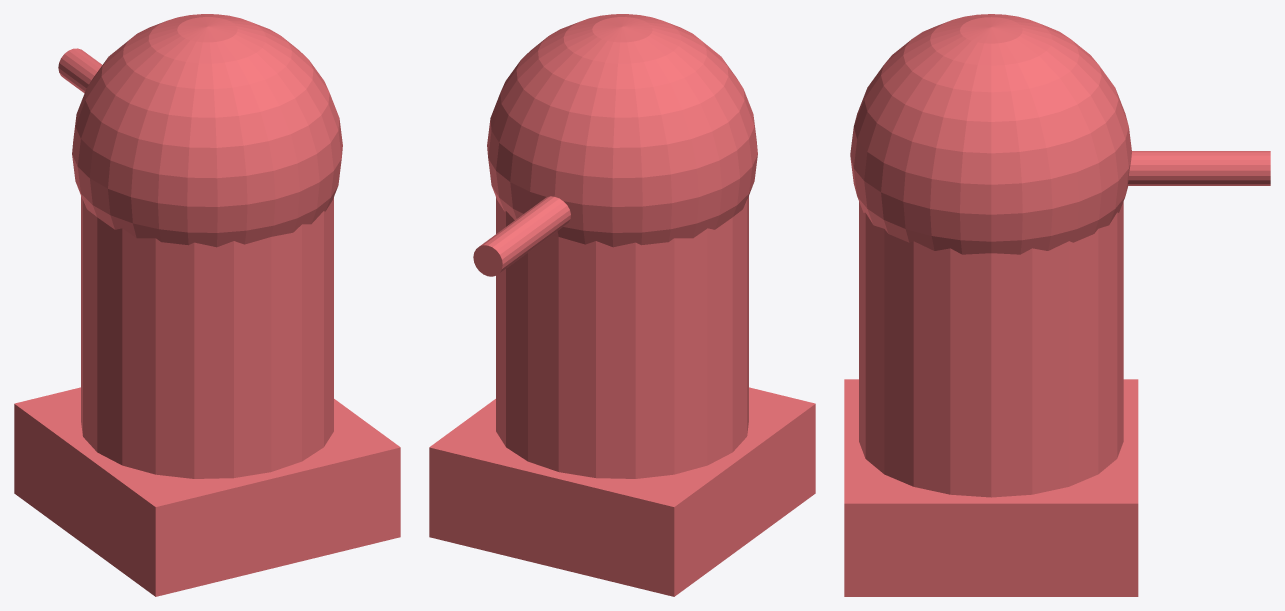
3 renders of one model, left to right at view 1: azimuth 30°, elevation 25°; view 2: azimuth 150°, elevation 25°; view 3: azimuth 270°, elevation 25°, orthographic. The views are drawn at different scales.
Parts seen in each view (by area): view 1: cis_sentry_turret_sketchfab_001; view 2: cis_sentry_turret_sketchfab_001; view 3: cis_sentry_turret_sketchfab_001.
Part boxes in pixels (x1,y1,x2,y2): cis_sentry_turret_sketchfab_001: [14, 14, 400, 596]; cis_sentry_turret_sketchfab_001: [429, 14, 815, 596]; cis_sentry_turret_sketchfab_001: [844, 14, 1270, 596].
Bounding box in the file's own units: 1 × 1.9 × 1.45.
